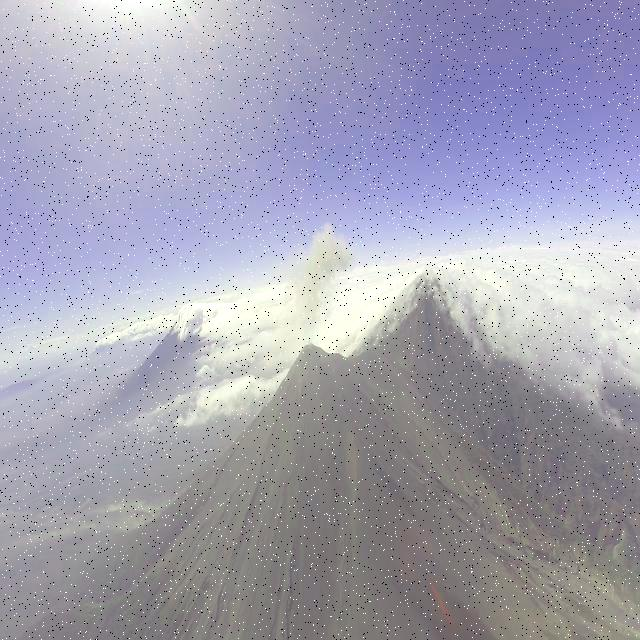Plume: (289, 218, 351, 332)
Summit: (290, 340, 344, 370)
